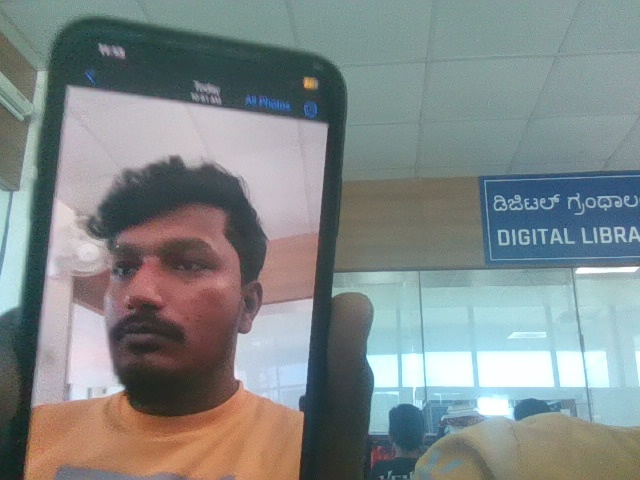fake: (86, 145, 268, 403)
